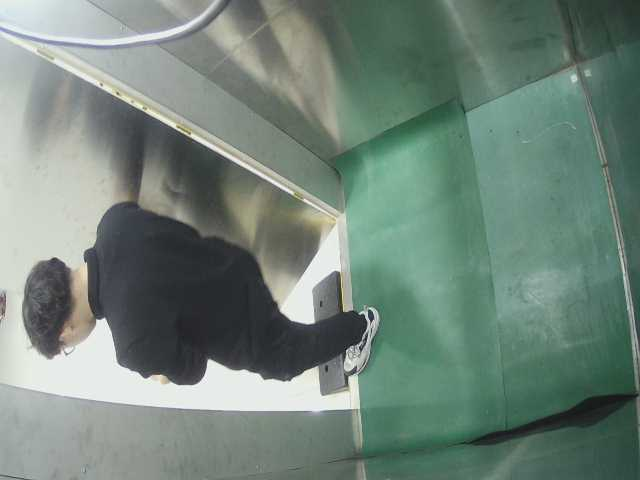person: (7, 200, 387, 382)
